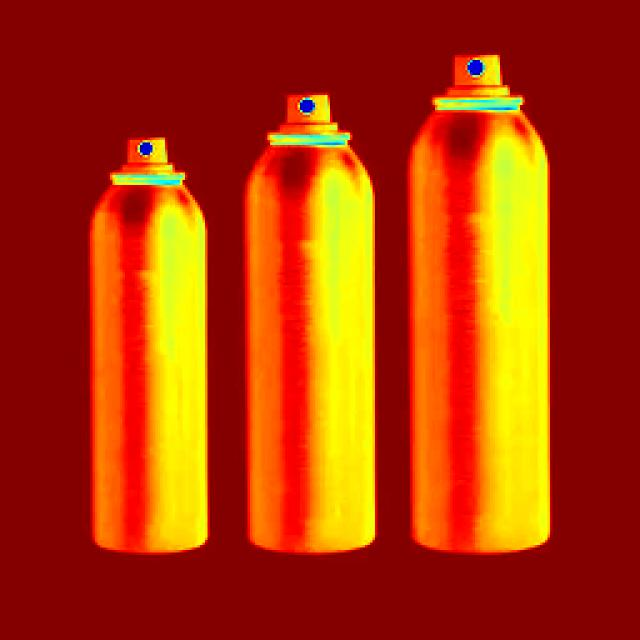Aerosol Cans: (400, 38, 570, 570), (235, 62, 395, 564), (84, 96, 219, 565)
